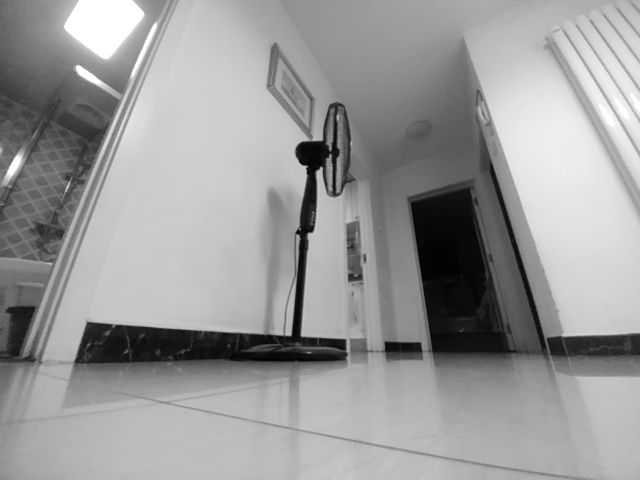bar stool: (238, 333, 349, 365)
